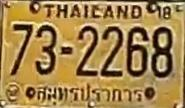2: (100, 25, 123, 77), (76, 25, 98, 76)
3: (34, 24, 57, 74)
6: (126, 26, 148, 76)
7: (10, 23, 32, 75)
8: (151, 26, 173, 78)
SPK: (31, 82, 145, 106)
